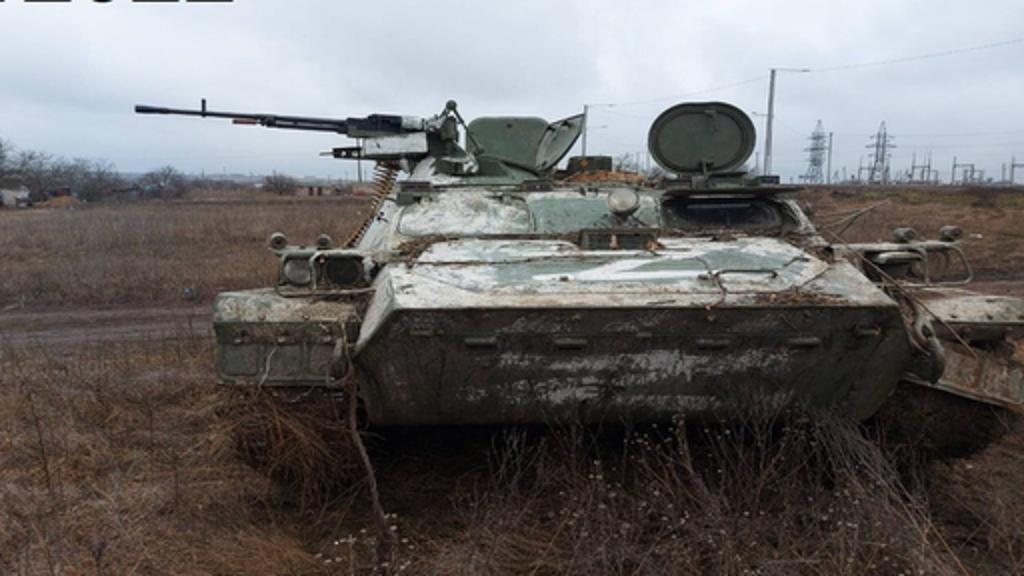APC-IFV: (118, 70, 978, 488)
